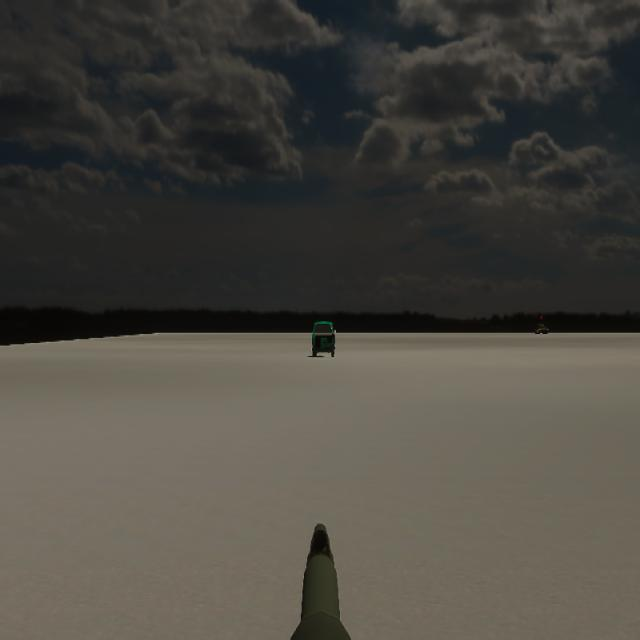green_car: (311, 319, 337, 358)
